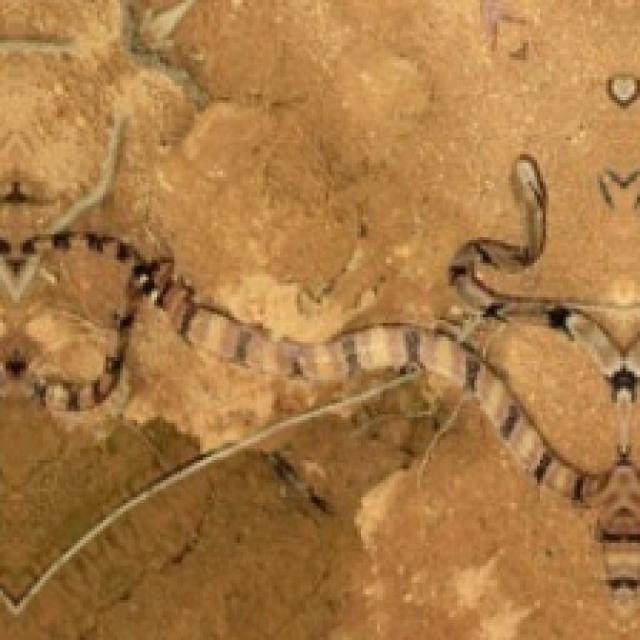dog-toothed cat snake: (0, 156, 640, 589)
